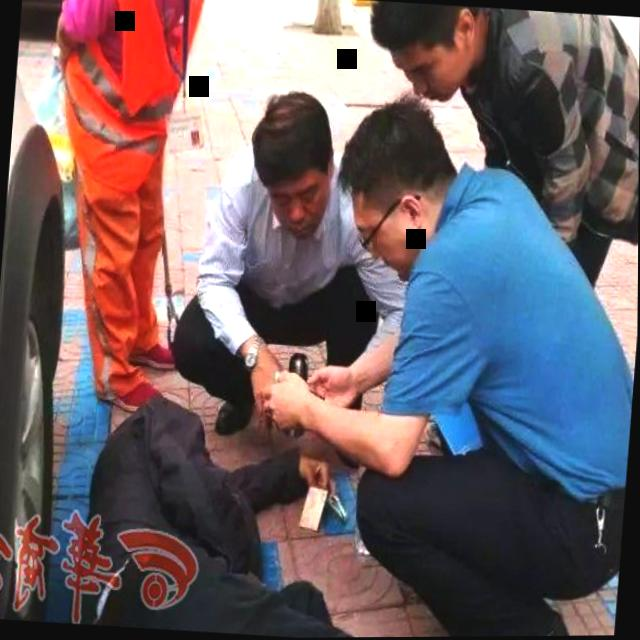Fall-Detected: (47, 353, 539, 640)
